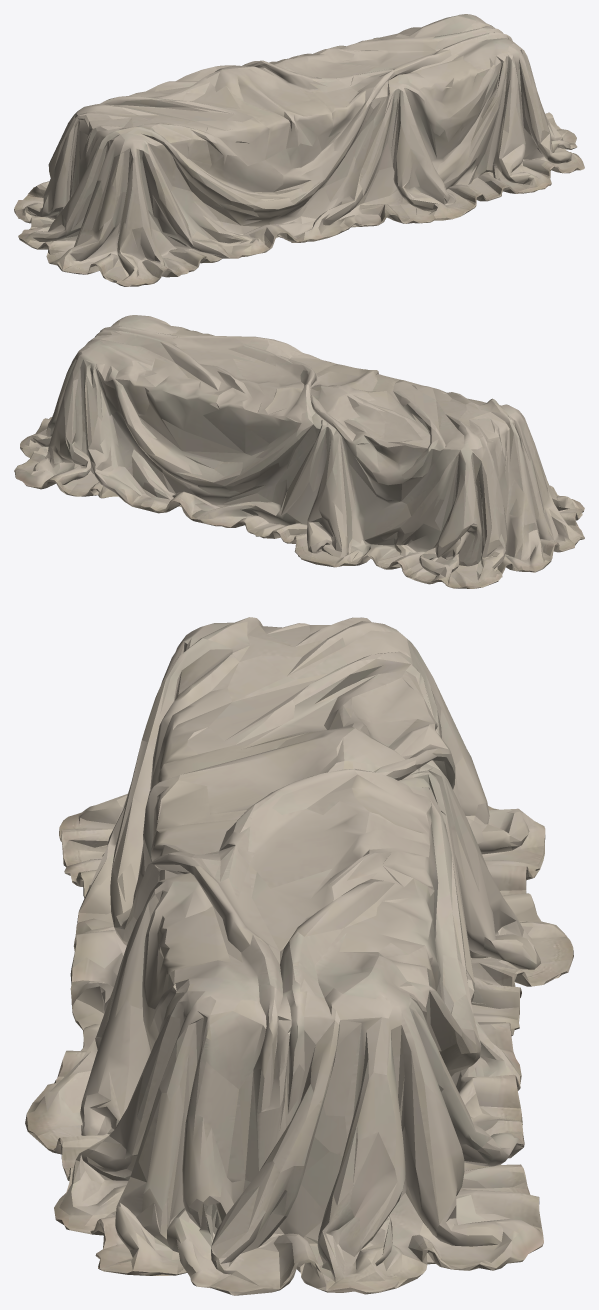
Rendered from body.glb.
3 renders of one model, top to bottom at view 1: azimuth 30°, elevation 25°; view 2: azimuth 150°, elevation 25°; view 3: azimuth 270°, elevation 25°, orthographic. The views are drawn at different scales.
Parts seen in each view (by area): view 1: Mesh_0; view 2: Mesh_0; view 3: Mesh_0.
Boxes of the visible parts, box(x1,y1,x2,y2) form: Mesh_0: box(14, 14, 584, 286); Mesh_0: box(14, 315, 584, 588); Mesh_0: box(25, 617, 573, 1295).
Bounding box in the file's own units: 1.9 × 0.4396 × 0.8606.
1 material, 1 textured.
